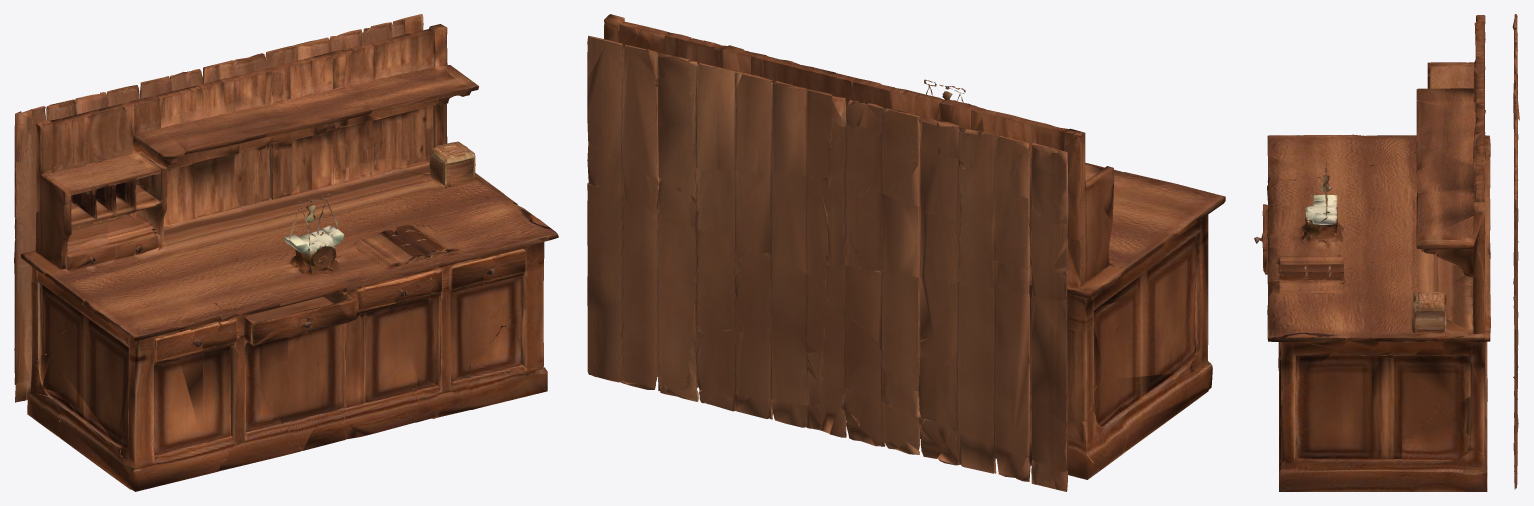
File: shop-counter.glb
3 views of the same model, side by side, from view 1: azimuth 30°, elevation 25°; view 2: azimuth 150°, elevation 25°; view 3: azimuth 270°, elevation 25° (orthographic). The views are drawn at different scales.
Parts seen in each view (by area): view 1: Mesh_0; view 2: Mesh_0; view 3: Mesh_0.
Boxes of the visible parts, x1=… form: Mesh_0: x1=14, y1=14, x2=558, y2=491; Mesh_0: x1=587, y1=14, x2=1225, y2=491; Mesh_0: x1=1254, y1=14, x2=1519, y2=491.
Size of the model in its own units: 1.91 by 1.25 by 1.06.
Materials: 1 (1 with a texture image).
